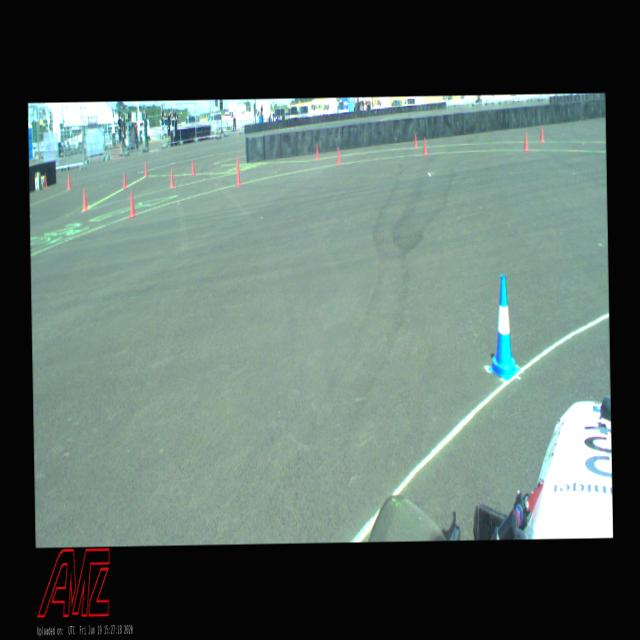blue_cone: (486, 275, 520, 381)
